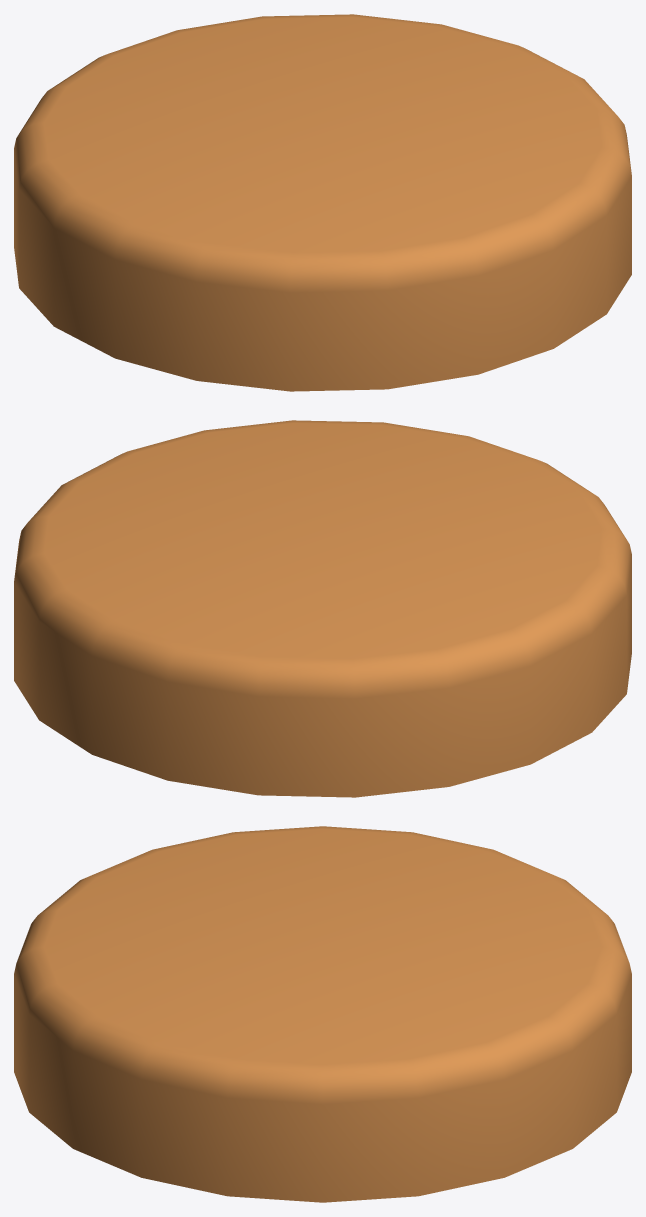
The model's file is UICoverEnergyBar.fbx.
3 renders of one model, top to bottom at view 1: azimuth 30°, elevation 25°; view 2: azimuth 150°, elevation 25°; view 3: azimuth 270°, elevation 25°, orthographic.
Parts seen in each view (by area): view 1: UICoverEnergyBar; view 2: UICoverEnergyBar; view 3: UICoverEnergyBar.
Boxes of the visible parts, x1,y1,x2,y2 form: UICoverEnergyBar: [14, 14, 631, 391]; UICoverEnergyBar: [14, 420, 631, 797]; UICoverEnergyBar: [14, 826, 631, 1202].
Size of the model in its own units: 24.08 by 5.39 by 24.08.
